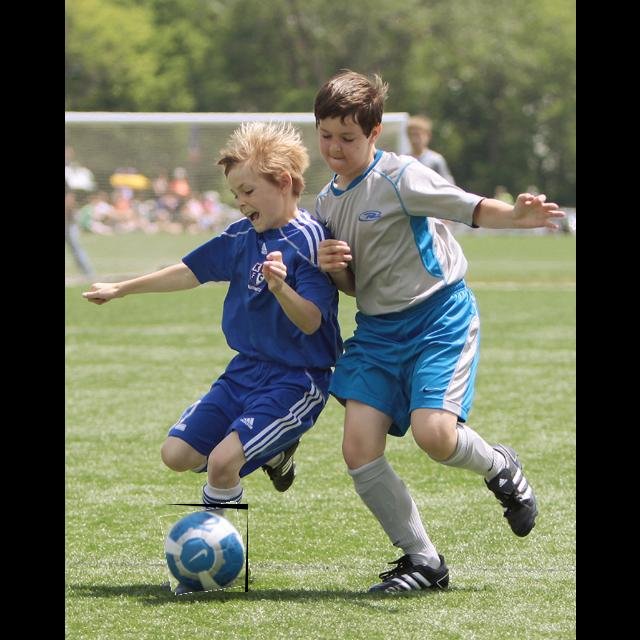Football: (164, 504, 248, 592)
